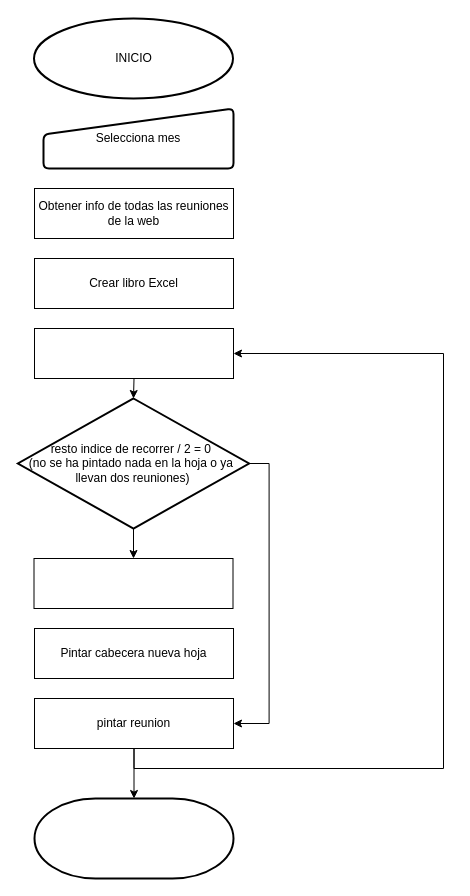
Image size: 470x896. Some labels were removed from this diagram. Here are the shapes that lost their labels. From the top down, the centre of each, then its label:
the point at 134,353: Por cada reunión
the point at 133,583: Crear nueva hoja
the point at 133,838: FINISH
